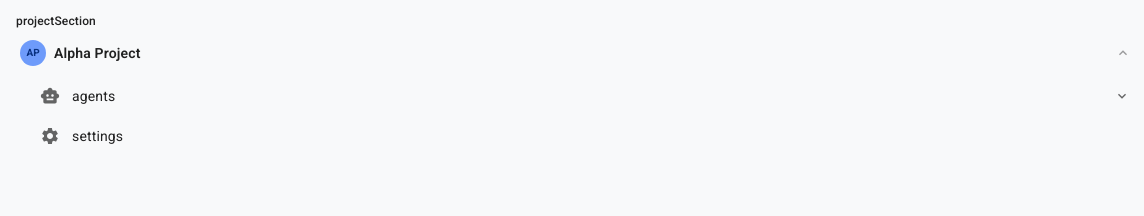
Test case: ProjectSwitcher, project menu › selects another project, navigates and closes the menu
Step 1. Click the button "AP" → coordinates (33, 53), box [16,36,50,70]
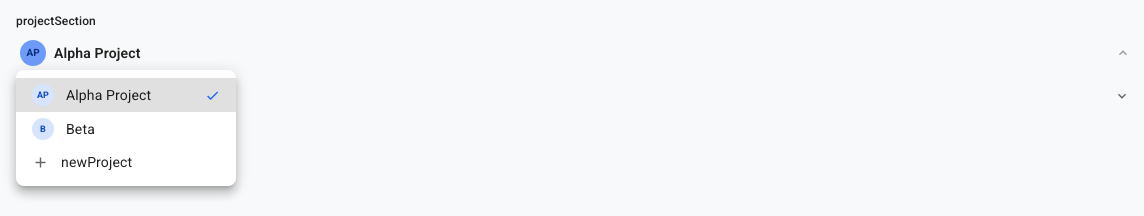
Step 2. Click the menu item "B Beta" → coordinates (64, 129), box [32,118,95,140]
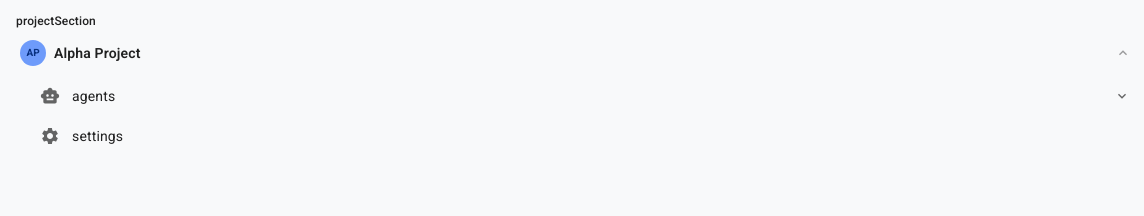
Check: the menu is gone
